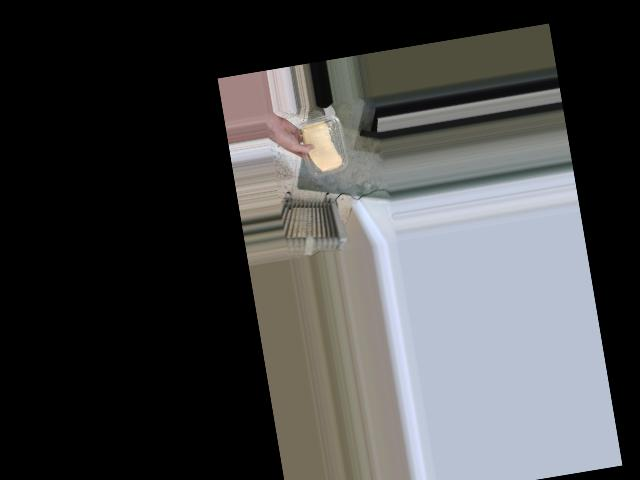cheese: (295, 114, 349, 181)
